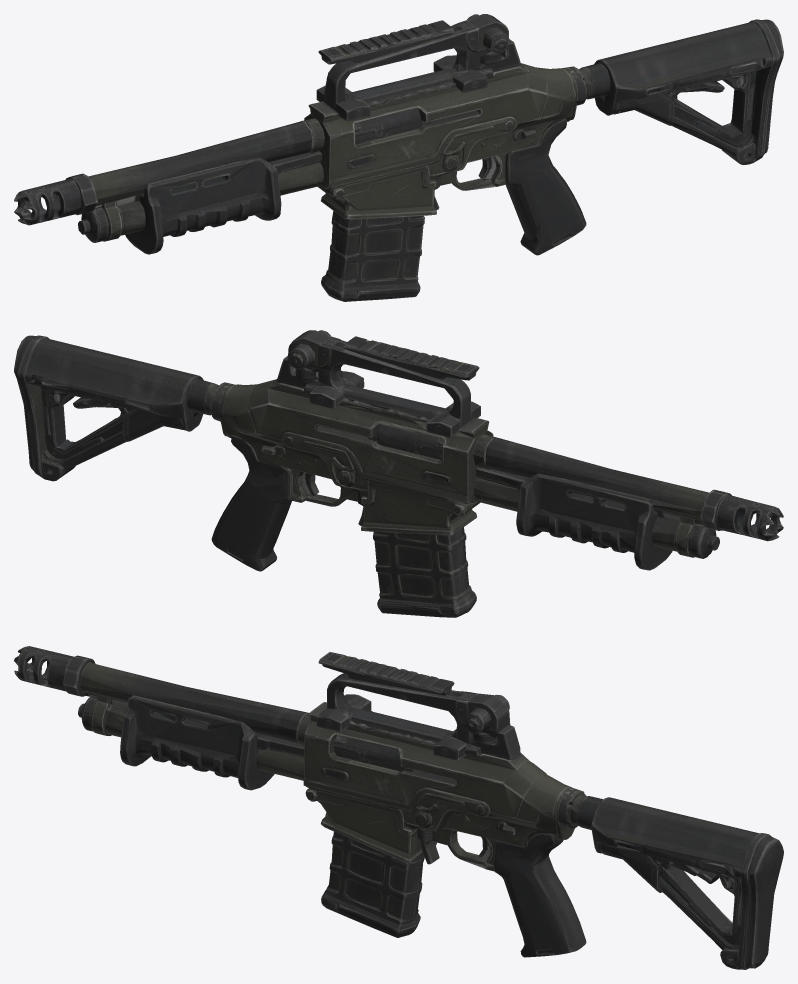
File: breacher.glb
The picture shows the model from 3 angles, top to bottom: view 1: azimuth 30°, elevation 25°; view 2: azimuth 150°, elevation 25°; view 3: azimuth 330°, elevation 25°; orthographic projection.
Parts seen in each view (by area): view 1: Mesh_0; view 2: Mesh_0; view 3: Mesh_0.
Boxes of the visible parts, box(x1,y1,x2,y2) form: Mesh_0: box(14, 14, 783, 301); Mesh_0: box(14, 330, 783, 617); Mesh_0: box(14, 646, 783, 969).
Size of the model in its own units: 1.9 by 0.6165 by 0.1618.
1 material, 1 textured.
